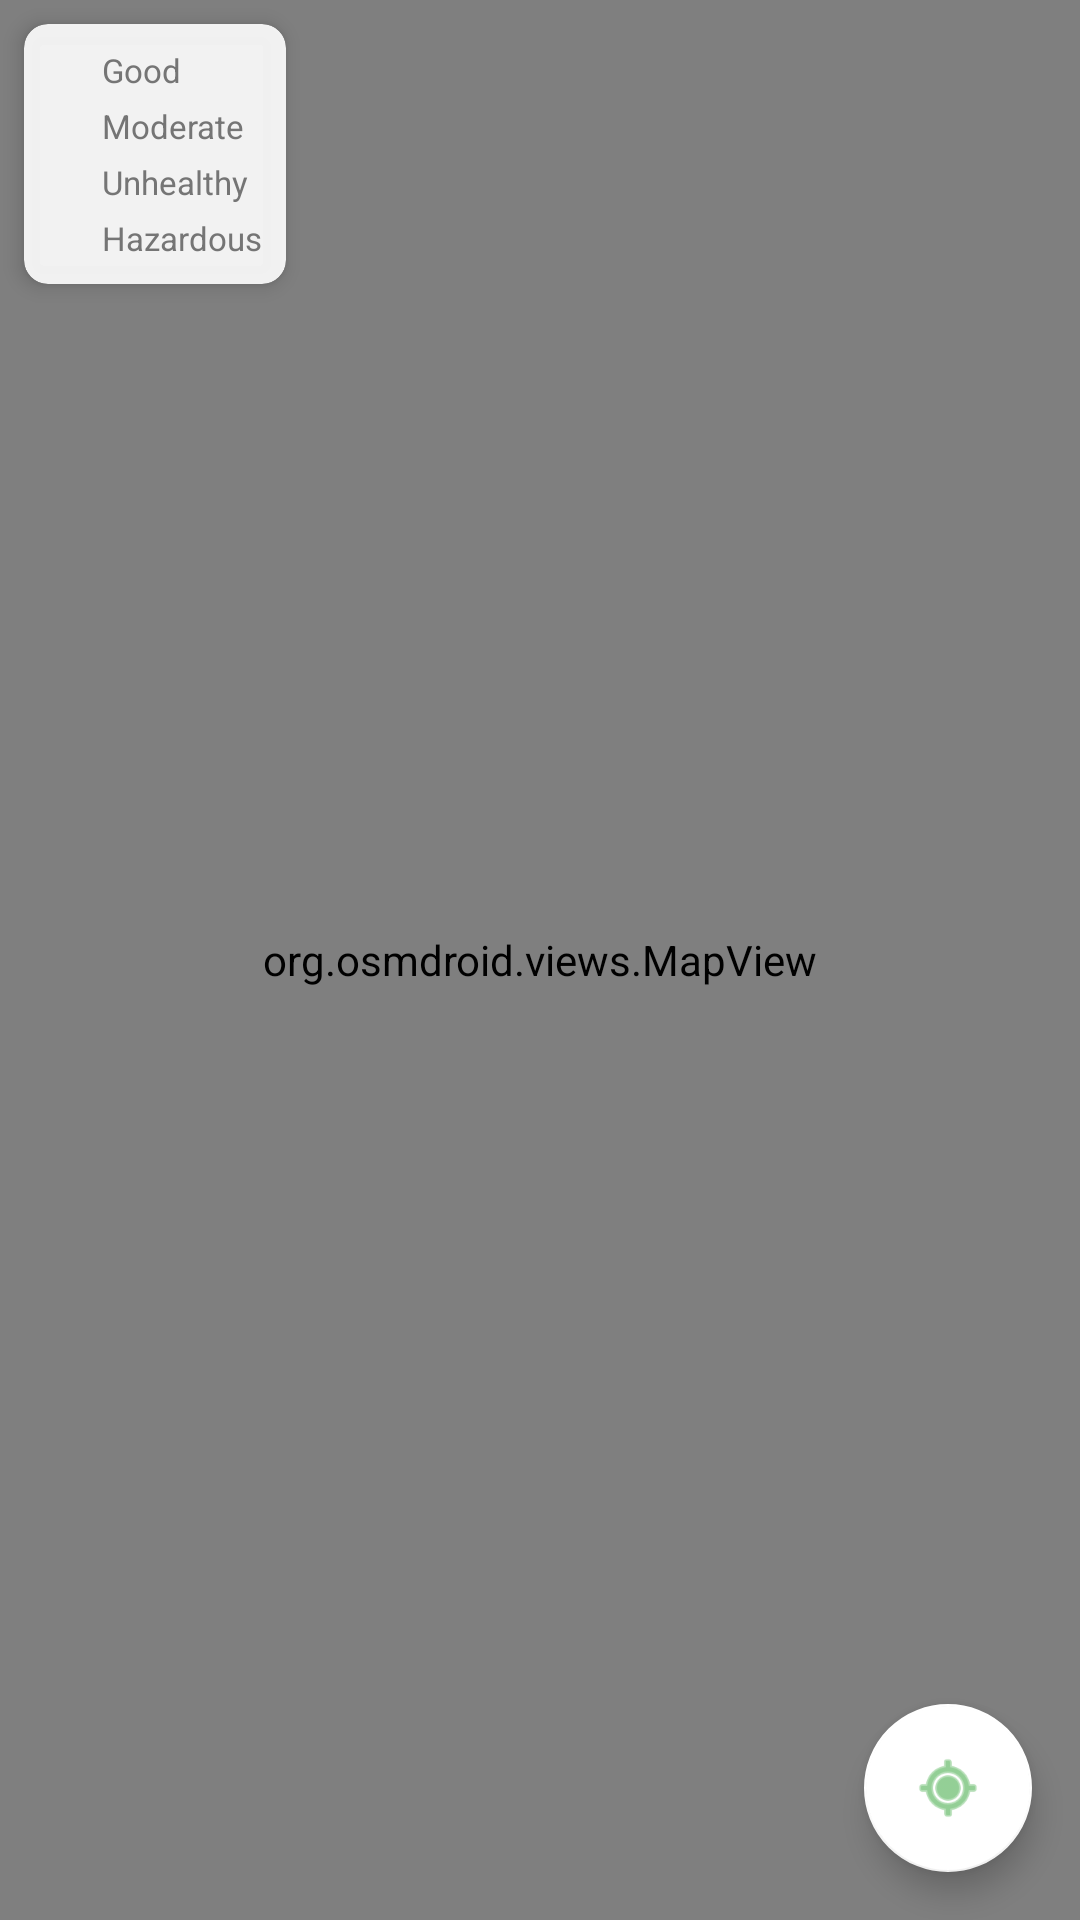

Point at icon controls on the screen. Image size 1080x1920, points as point (x, y).
Center on my location: point (948, 1788)
